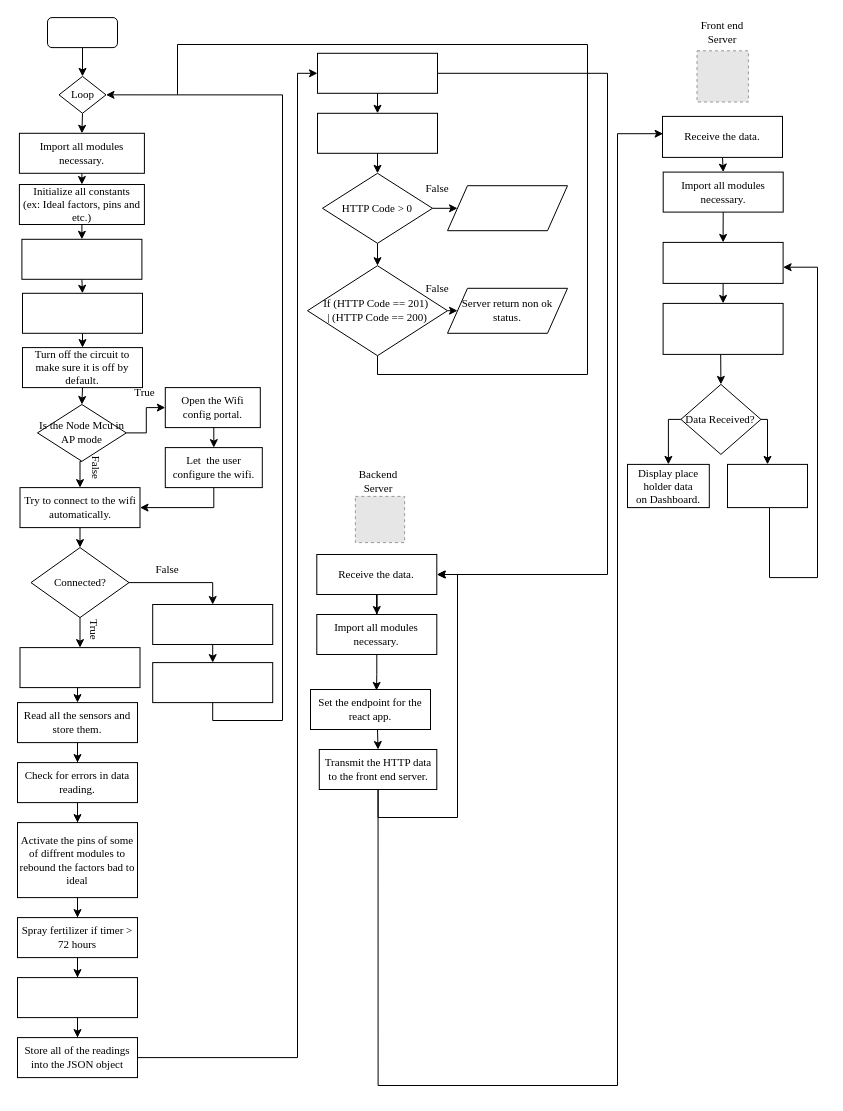
Image size: 843x1111. Some labels were removed from this diagram. Grey dashed boxes stand in for pictures. Each missing label, with the centre of its shape:
"Check the current endpoint." goes at point 722,262.
"Connect to the Backend server and begin the http connection." goes at point 79,667.
"Create a JSON object." goes at point 77,997.
"Display data on the Dashboard." goes at point 767,485.
"Display page correlated with the current endpoint." goes at point 722,328.
"Get the HTTP response code." goes at point 377,132.
"Initiate mutable variables (ex: current readings, timer and etc.)" goes at point 81,258.
"Post the JSON data with some headers." goes at point 377,72.
"Print to serial, Connection failed." goes at point 507,208.
"Restart the Node Mcu" goes at point 212,682.
"Set the pin mode of all the pins needed." goes at point 82,312.
"Start" goes at point 82,32.
"Switch the Node Mcu to AP mode." goes at point 212,624.
